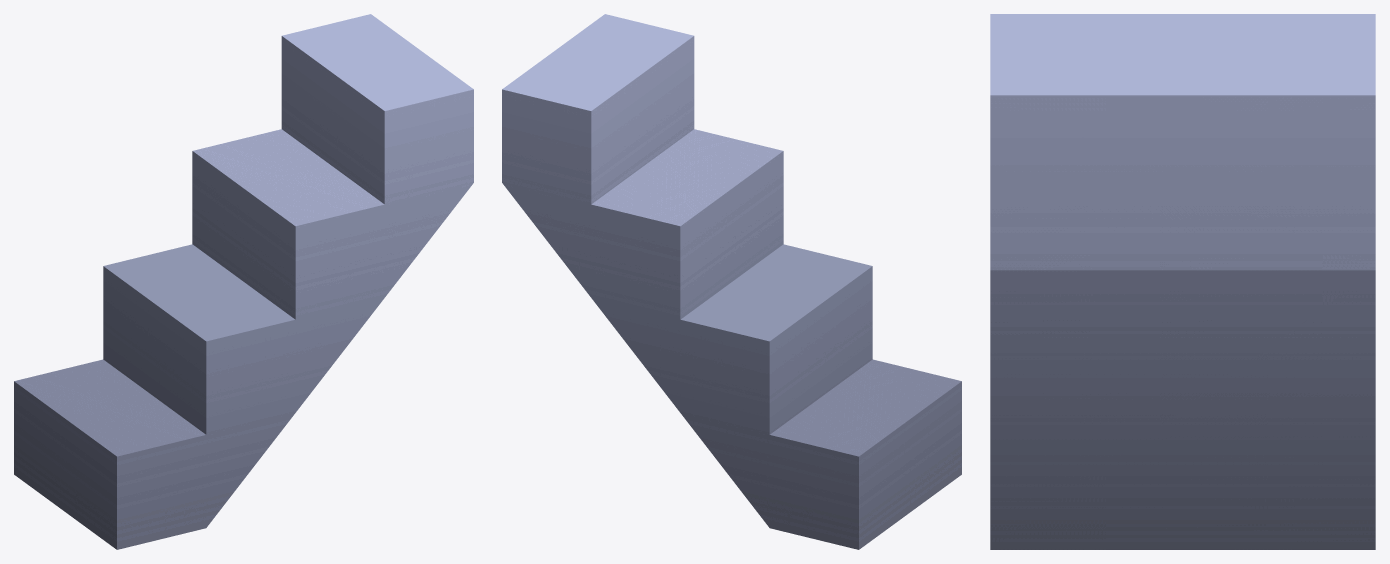
Rendered from stairs-diagonal-narrow.glb.
The picture shows the model from 3 angles, left to right: view 1: azimuth 30°, elevation 25°; view 2: azimuth 150°, elevation 25°; view 3: azimuth 270°, elevation 25°; orthographic projection. The views are drawn at different scales.
Parts seen in each view (by area): view 1: stairs-diagonal-narrow; view 2: stairs-diagonal-narrow; view 3: stairs-diagonal-narrow.
Boxes of the visible parts, bbox=[...] form: stairs-diagonal-narrow: bbox=[14, 14, 473, 549]; stairs-diagonal-narrow: bbox=[502, 14, 961, 549]; stairs-diagonal-narrow: bbox=[990, 14, 1375, 549].
Size of the model in its own units: 1 by 1 by 0.5.
Materials: 1 (1 with a texture image).
